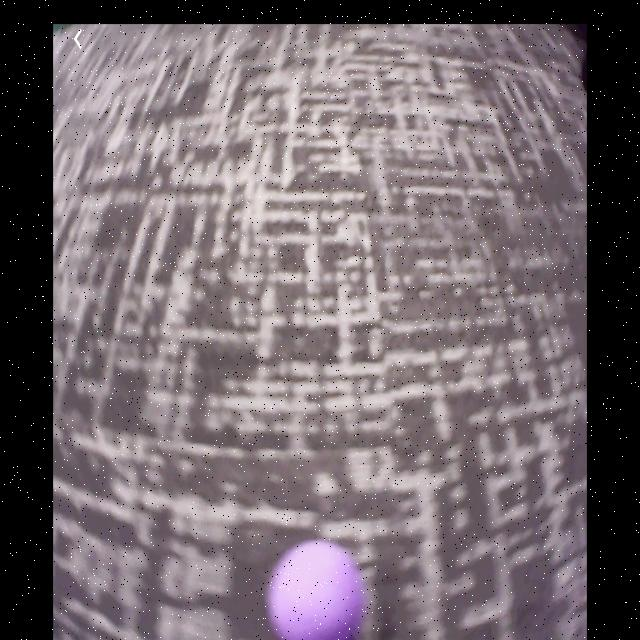ball: (268, 539, 365, 640)
